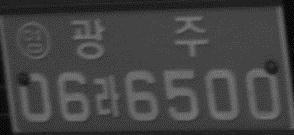0: (244, 67, 281, 120), (204, 67, 240, 121), (18, 71, 52, 124)
5: (163, 68, 200, 121)
6: (123, 70, 159, 121), (56, 72, 91, 123)
광주_D: (69, 16, 209, 60)
라: (92, 74, 122, 117)
영: (15, 20, 51, 59)
